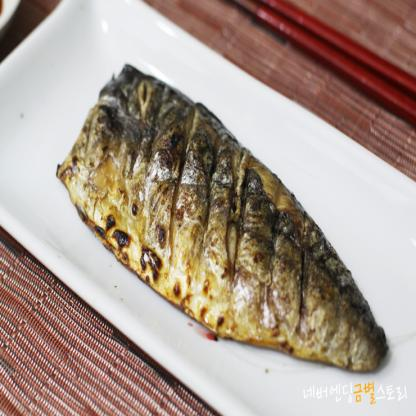Peixe: (53, 67, 394, 380)
